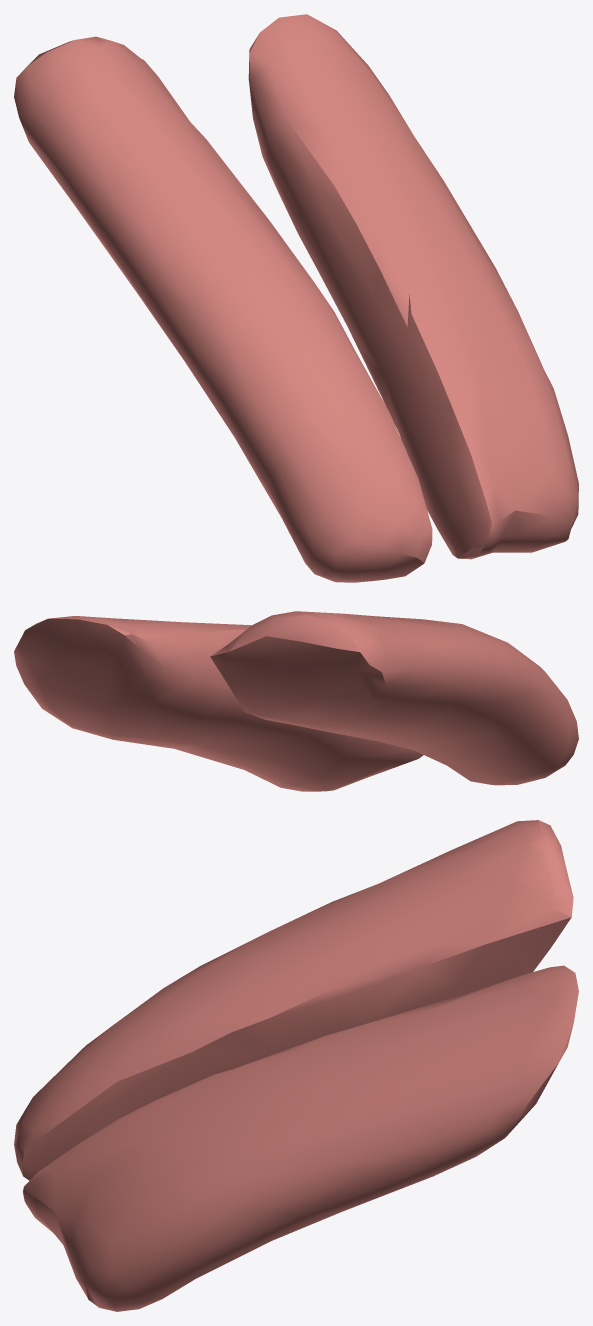
File: fma72166_mm1948m.glb
3 renders of one model, top to bottom at view 1: azimuth 30°, elevation 25°; view 2: azimuth 150°, elevation 25°; view 3: azimuth 270°, elevation 25°, orthographic. The views are drawn at different scales.
Parts seen in each view (by area): view 1: FMA72166_MM1948M; view 2: FMA72166_MM1948M; view 3: FMA72166_MM1948M.
Part boxes in pixels (<box>): FMA72166_MM1948M: <box>14,14,578,582</box>; FMA72166_MM1948M: <box>14,611,578,791</box>; FMA72166_MM1948M: <box>14,820,578,1311</box>.
Bounding box in the file's own units: 0.00878 × 0.0088 × 0.0121.
